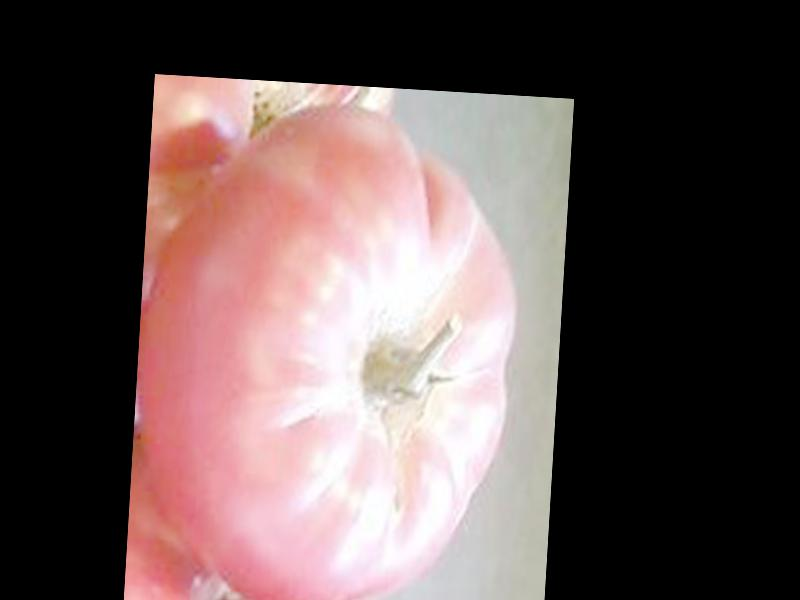Tomato: (125, 91, 526, 600)
